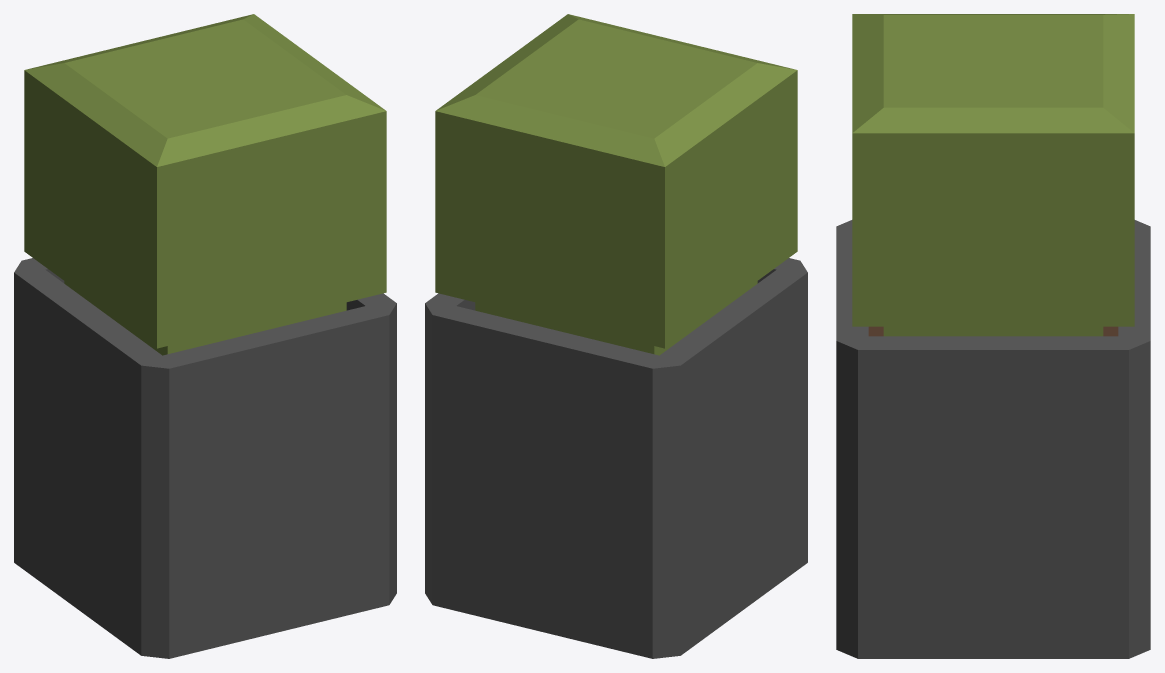
The model's file is FlowerBed_02.fbx.
The picture shows the model from 3 angles, left to right: view 1: azimuth 30°, elevation 25°; view 2: azimuth 150°, elevation 25°; view 3: azimuth 270°, elevation 25°; orthographic projection. The views are drawn at different scales.
Visible parts, largest first — view 1: FlowerBed_02; view 2: FlowerBed_02; view 3: FlowerBed_02.
Part boxes in pixels (x1,y1,x2,y2): FlowerBed_02: [14, 14, 396, 658]; FlowerBed_02: [425, 14, 807, 658]; FlowerBed_02: [836, 14, 1150, 658].
Size of the model in its own units: 58.82 by 110 by 58.82.
